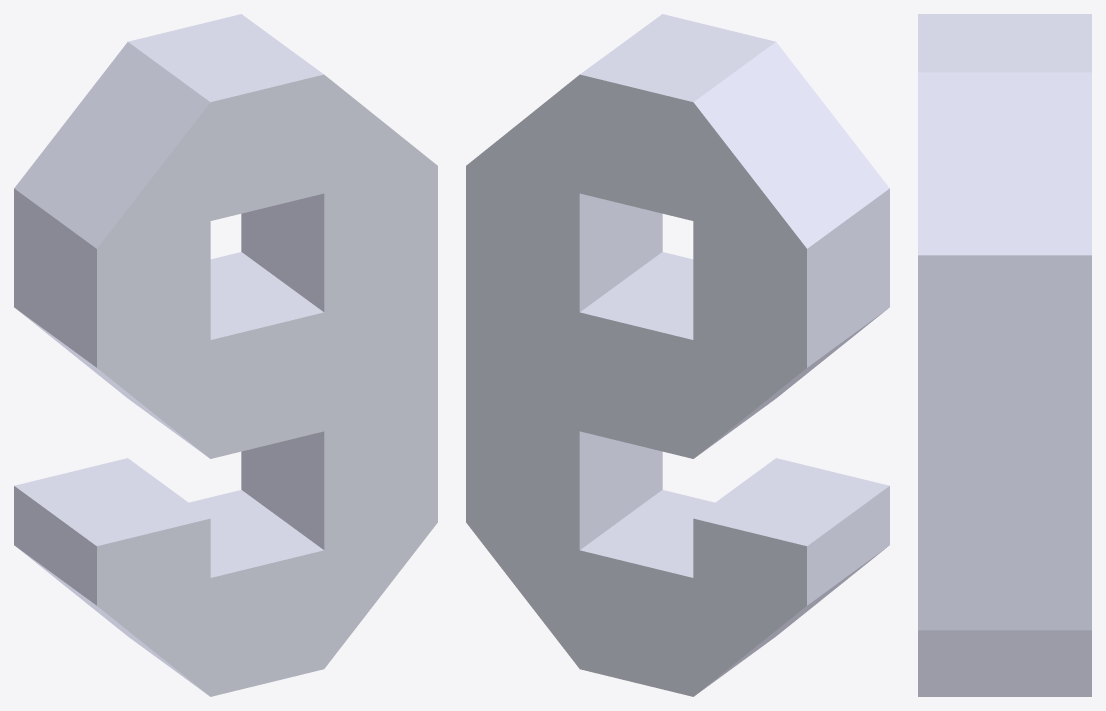
File: be433cee-b504-4505-911a-1d4ef7df956f.glb
3 views of the same model, side by side, from view 1: azimuth 30°, elevation 25°; view 2: azimuth 150°, elevation 25°; view 3: azimuth 270°, elevation 25° (orthographic). The views are drawn at different scales.
Parts seen in each view (by area): view 1: 9_DeltaBlock_Grey; view 2: 9_DeltaBlock_Grey; view 3: 9_DeltaBlock_Grey.
Boxes of the visible parts, bbox=[...] form: 9_DeltaBlock_Grey: bbox=[14, 14, 437, 696]; 9_DeltaBlock_Grey: bbox=[466, 14, 889, 696]; 9_DeltaBlock_Grey: bbox=[918, 14, 1091, 696].
Size of what is drawn, in the model's own units: 0.1071 by 0.1786 by 0.045.
2 materials, 2 textured.
